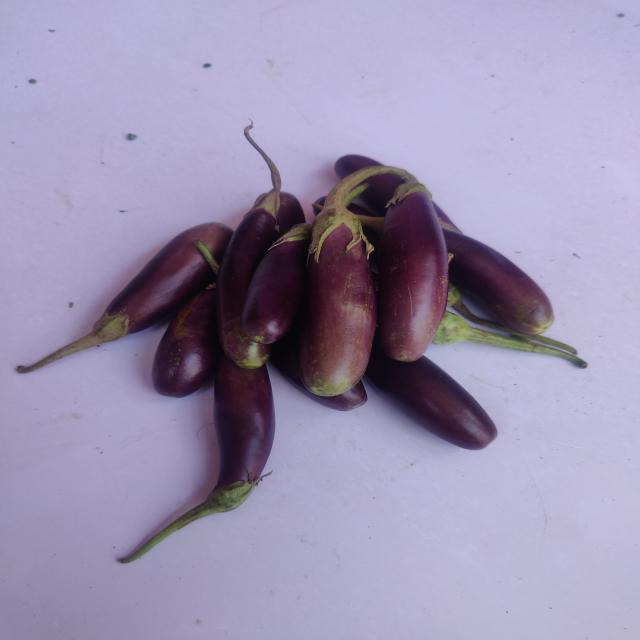Brinjal: (18, 222, 232, 372), (299, 175, 376, 396), (216, 154, 280, 369), (378, 176, 448, 362)
